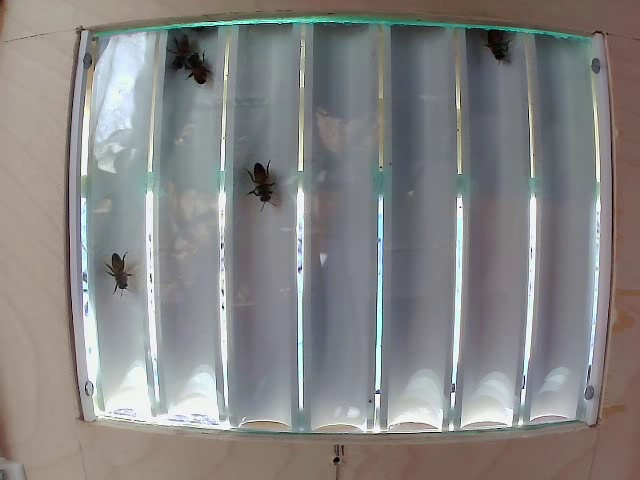bee: (233, 140, 281, 221), (95, 246, 139, 299), (174, 34, 205, 92), (486, 23, 508, 74)
